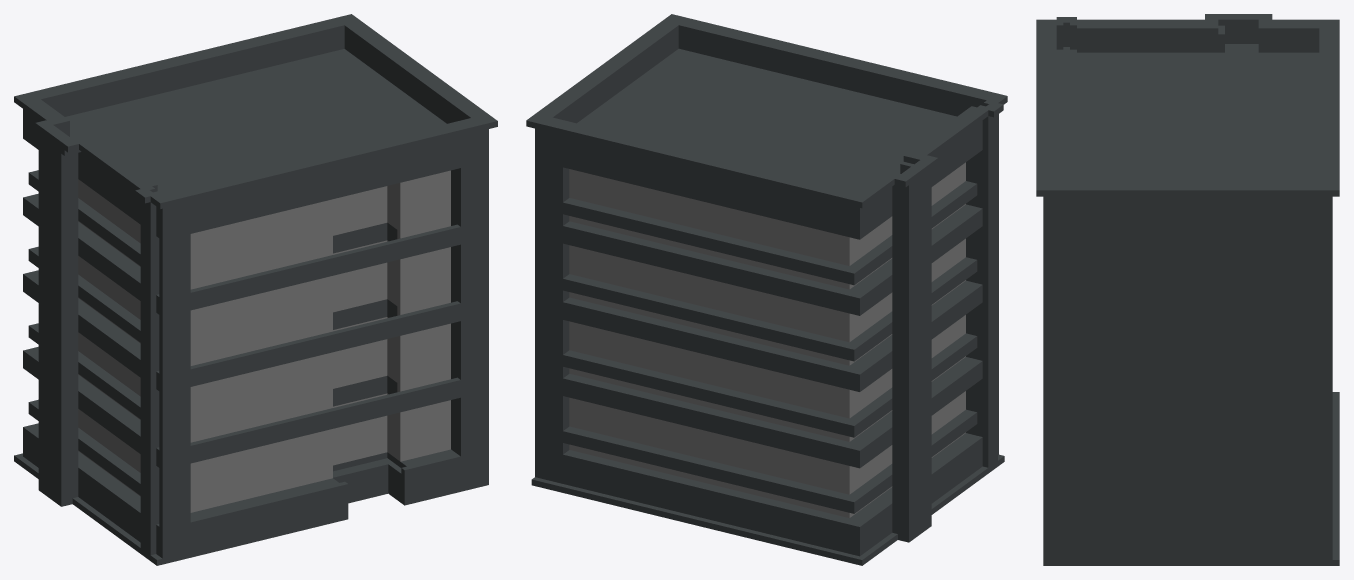
The model's file is Building006(2).obj.
3 views of the same model, side by side, from view 1: azimuth 30°, elevation 25°; view 2: azimuth 150°, elevation 25°; view 3: azimuth 270°, elevation 25° (orthographic). The views are drawn at different scales.
Size of the model in its own units: 6.2 by 6.2 by 4.5.
1 material, 1 textured.
